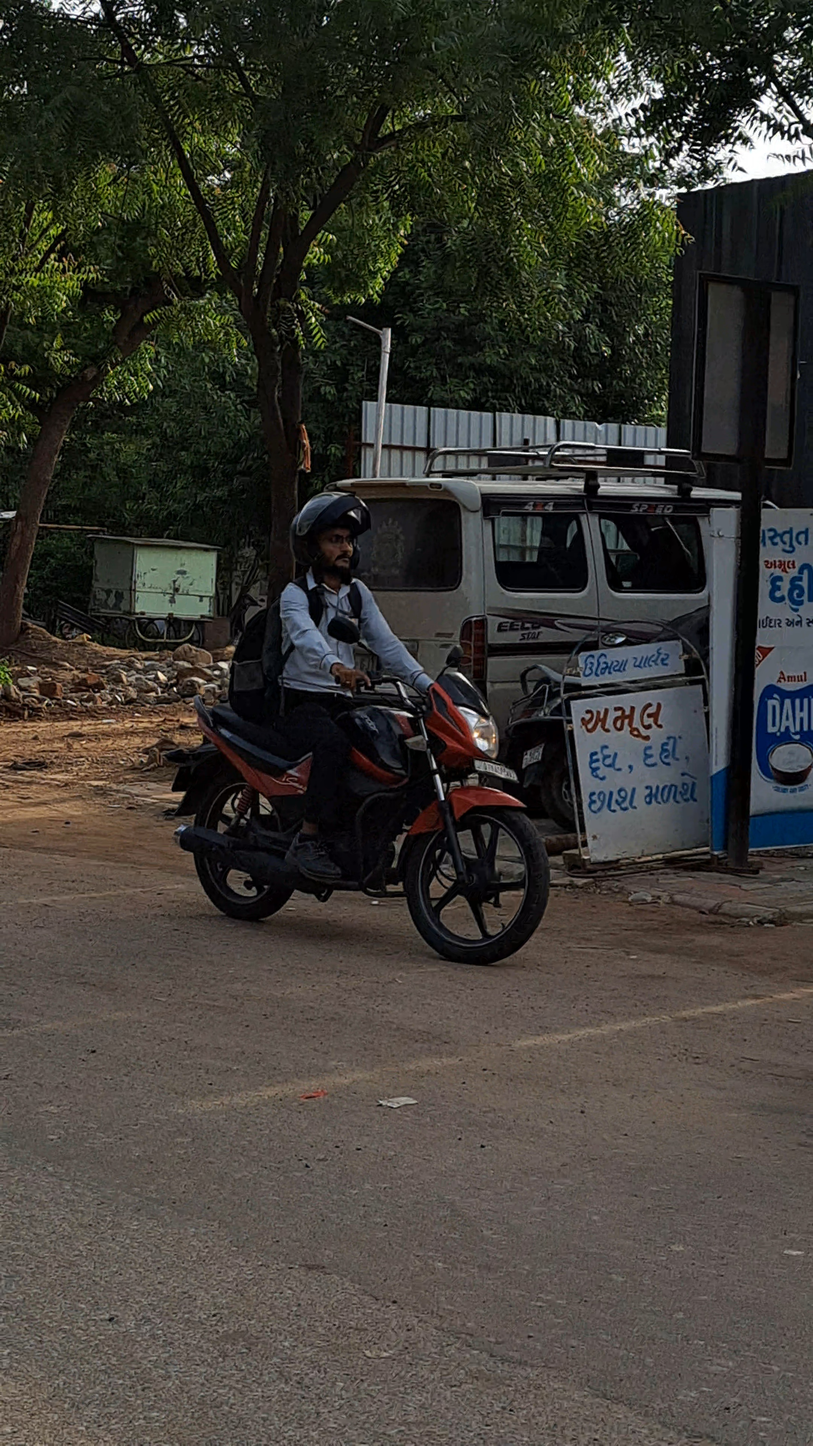BikeWithRider: (150, 478, 563, 973)
Helmet: (280, 480, 382, 590)
